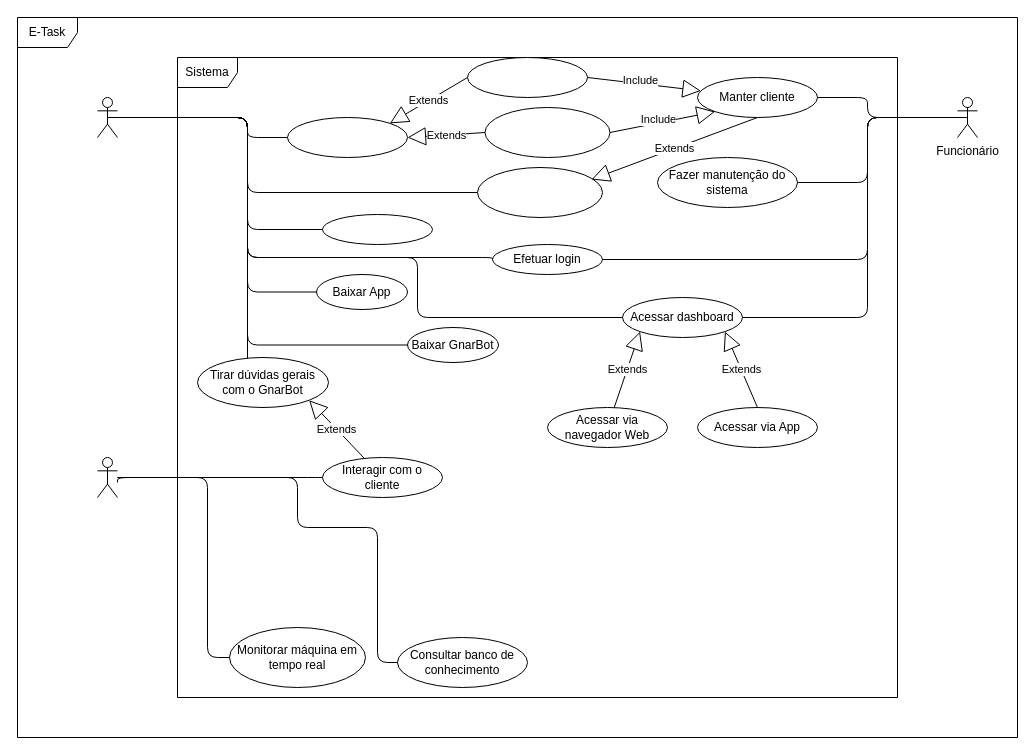
Image size: 1035x755. Some labels were removed from this diagram. Here are the shapes that lost their labels. From the top down, the centre of each, then its label:
At (x=527, y=77): "Escolher versão community".
At (x=107, y=117): "Cliente".
At (x=347, y=137): "Selecionar tipo de serviço".
At (x=547, y=132): "Escolher versão paga".
At (x=539, y=192): "Cancelar serviço".
At (x=377, y=229): "Cadastrar usuário".
At (x=107, y=477): "GnarBot".
